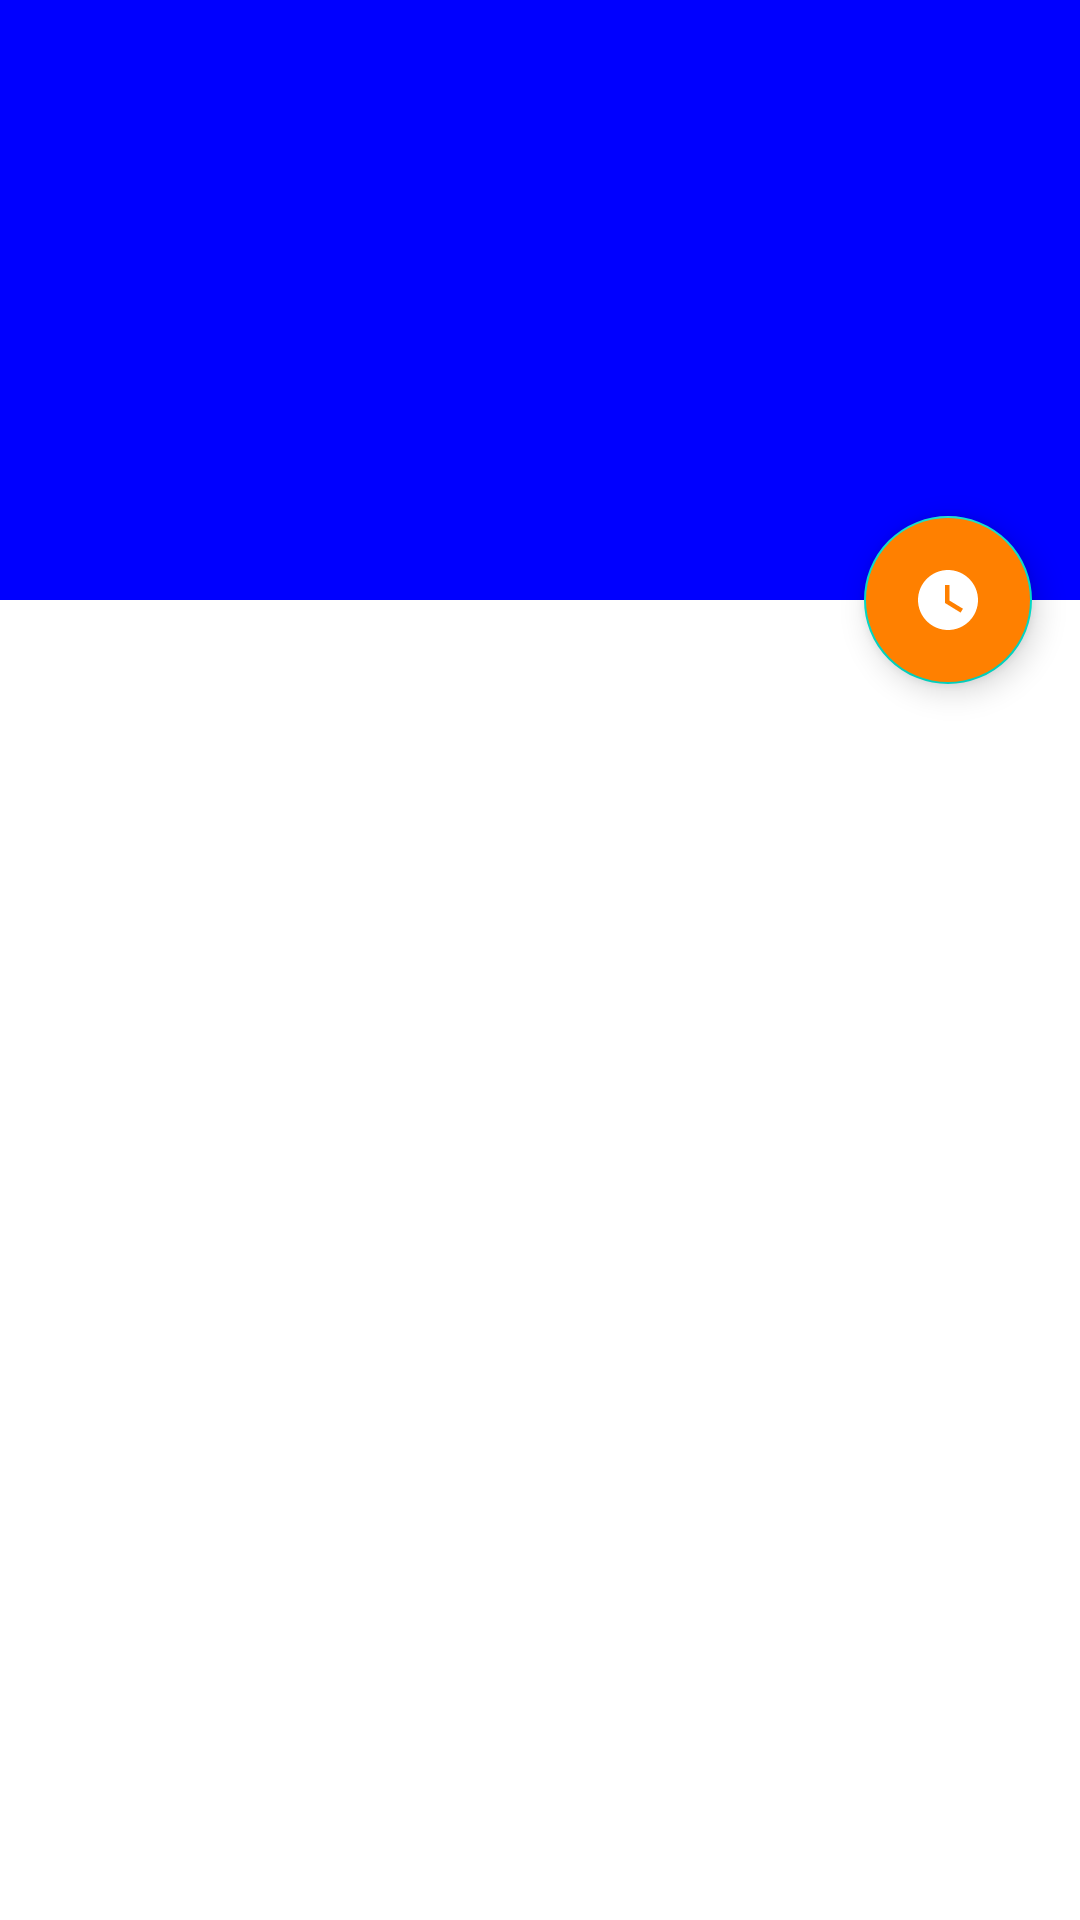

Screen size 1080 × 1920. Icon name, then its center in pixels as (x=x, y=y):
watch later: (x=948, y=600)
